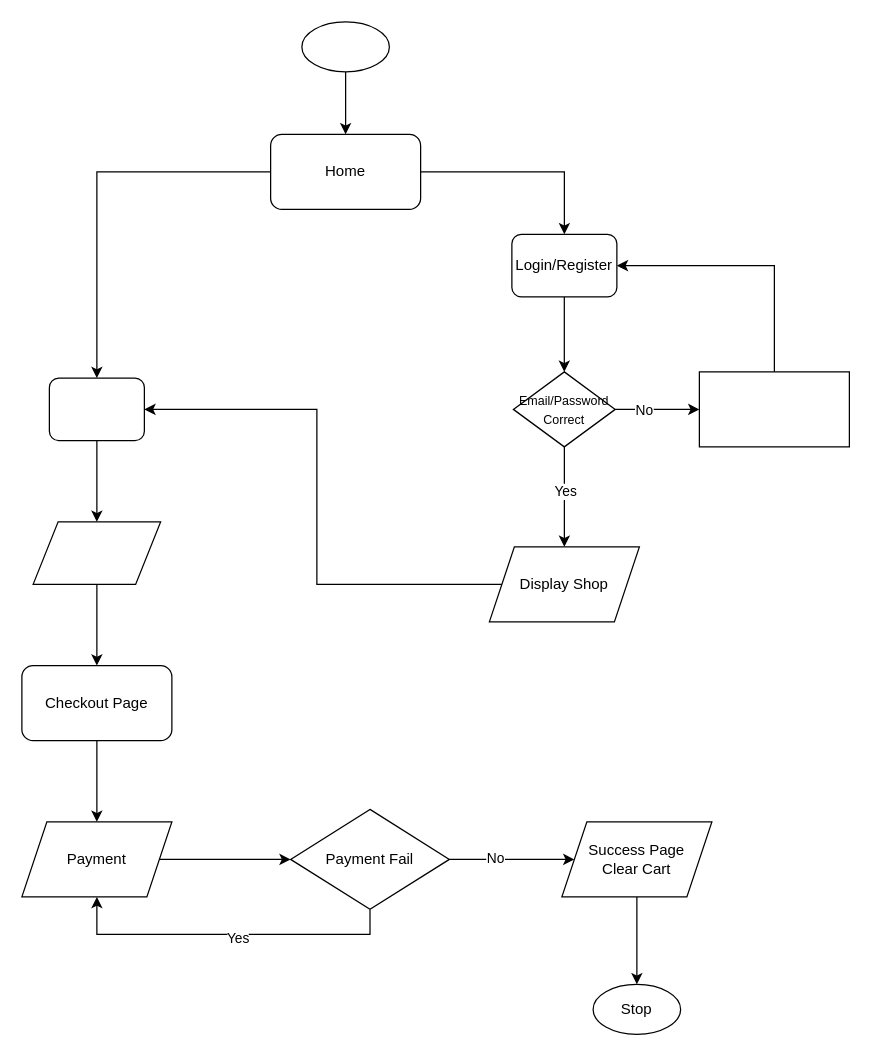
Image size: 871x1056. Some labels were removed from this diagram. Each missing label, with the centre of its shape:
Add to Cart: the point at 96,552
Login Error: the point at 773,409
Shop: the point at 96,409
Start: the point at 345,46
